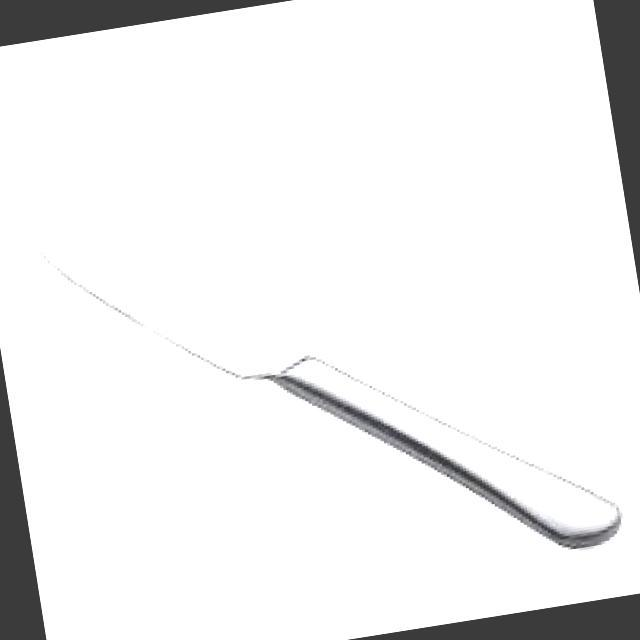Knife: (0, 118, 640, 640)
